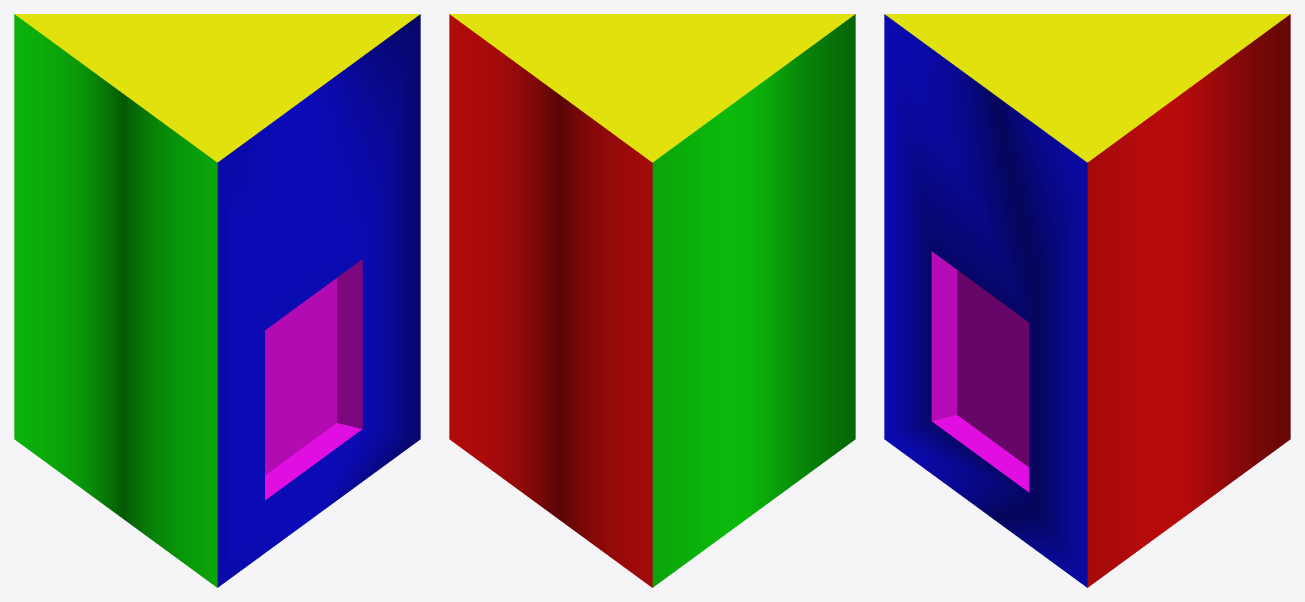
File: 3prism_with_annexe.DAE
3 renders of one model, left to right at view 1: azimuth 30°, elevation 25°; view 2: azimuth 150°, elevation 25°; view 3: azimuth 270°, elevation 25°, orthographic.
Parts seen in each view (by area): view 1: Cylinder001; view 2: Cylinder001; view 3: Cylinder001.
Boxes of the visible parts, x1,y1,x2,y2 form: Cylinder001: [14, 14, 420, 587]; Cylinder001: [449, 14, 855, 587]; Cylinder001: [884, 14, 1290, 587].
Size of the model in its own units: 375 by 433 by 500.
